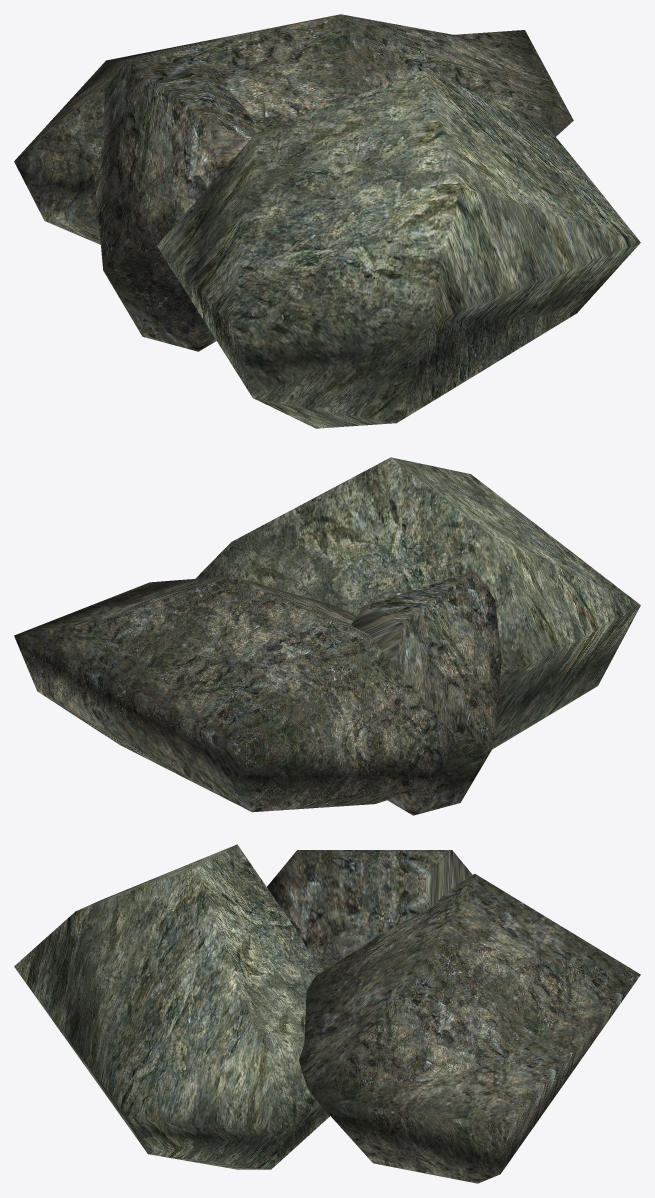
The model's file is mtns_rock_grey_a10_l1.fbx.
The picture shows the model from 3 angles, top to bottom: view 1: azimuth 30°, elevation 25°; view 2: azimuth 150°, elevation 25°; view 3: azimuth 270°, elevation 25°; orthographic projection. The views are drawn at different scales.
Visible parts, largest first — view 1: mesh_node; view 2: mesh_node; view 3: mesh_node.
Part boxes in pixels (<box>): mesh_node: <box>14,14,640,428</box>; mesh_node: <box>14,457,640,815</box>; mesh_node: <box>14,844,640,1183</box>.
Bounding box in the file's own units: 0.8569 × 0.5098 × 0.9915.
Materials: 2 (2 with a texture image).
